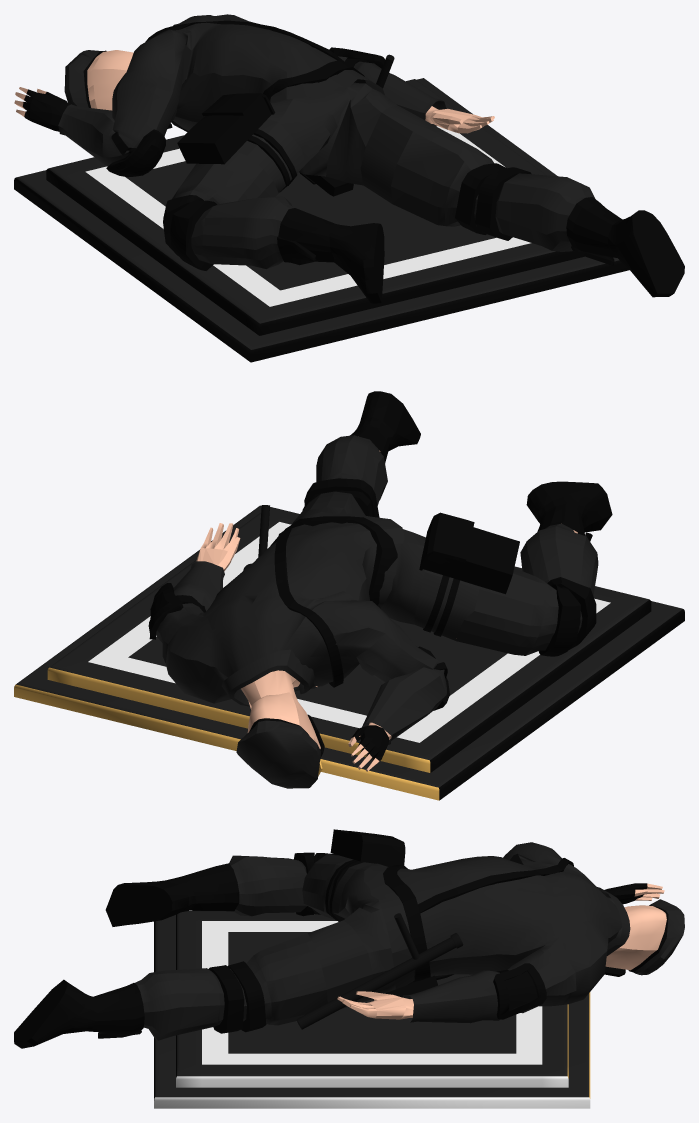
Rendered from UnitBlack_Death.fbx.
3 renders of one model, top to bottom at view 1: azimuth 30°, elevation 25°; view 2: azimuth 150°, elevation 25°; view 3: azimuth 270°, elevation 25°, orthographic. The views are drawn at different scales.
Parts seen in each view (by area): view 1: Box091; view 2: Box091; view 3: Box091.
Boxes of the visible parts, bbox=[...] form: Box091: bbox=[14, 14, 684, 362]; Box091: bbox=[14, 391, 684, 800]; Box091: bbox=[14, 829, 684, 1108].
Size of the model in its own units: 100 by 36.54 by 154.
